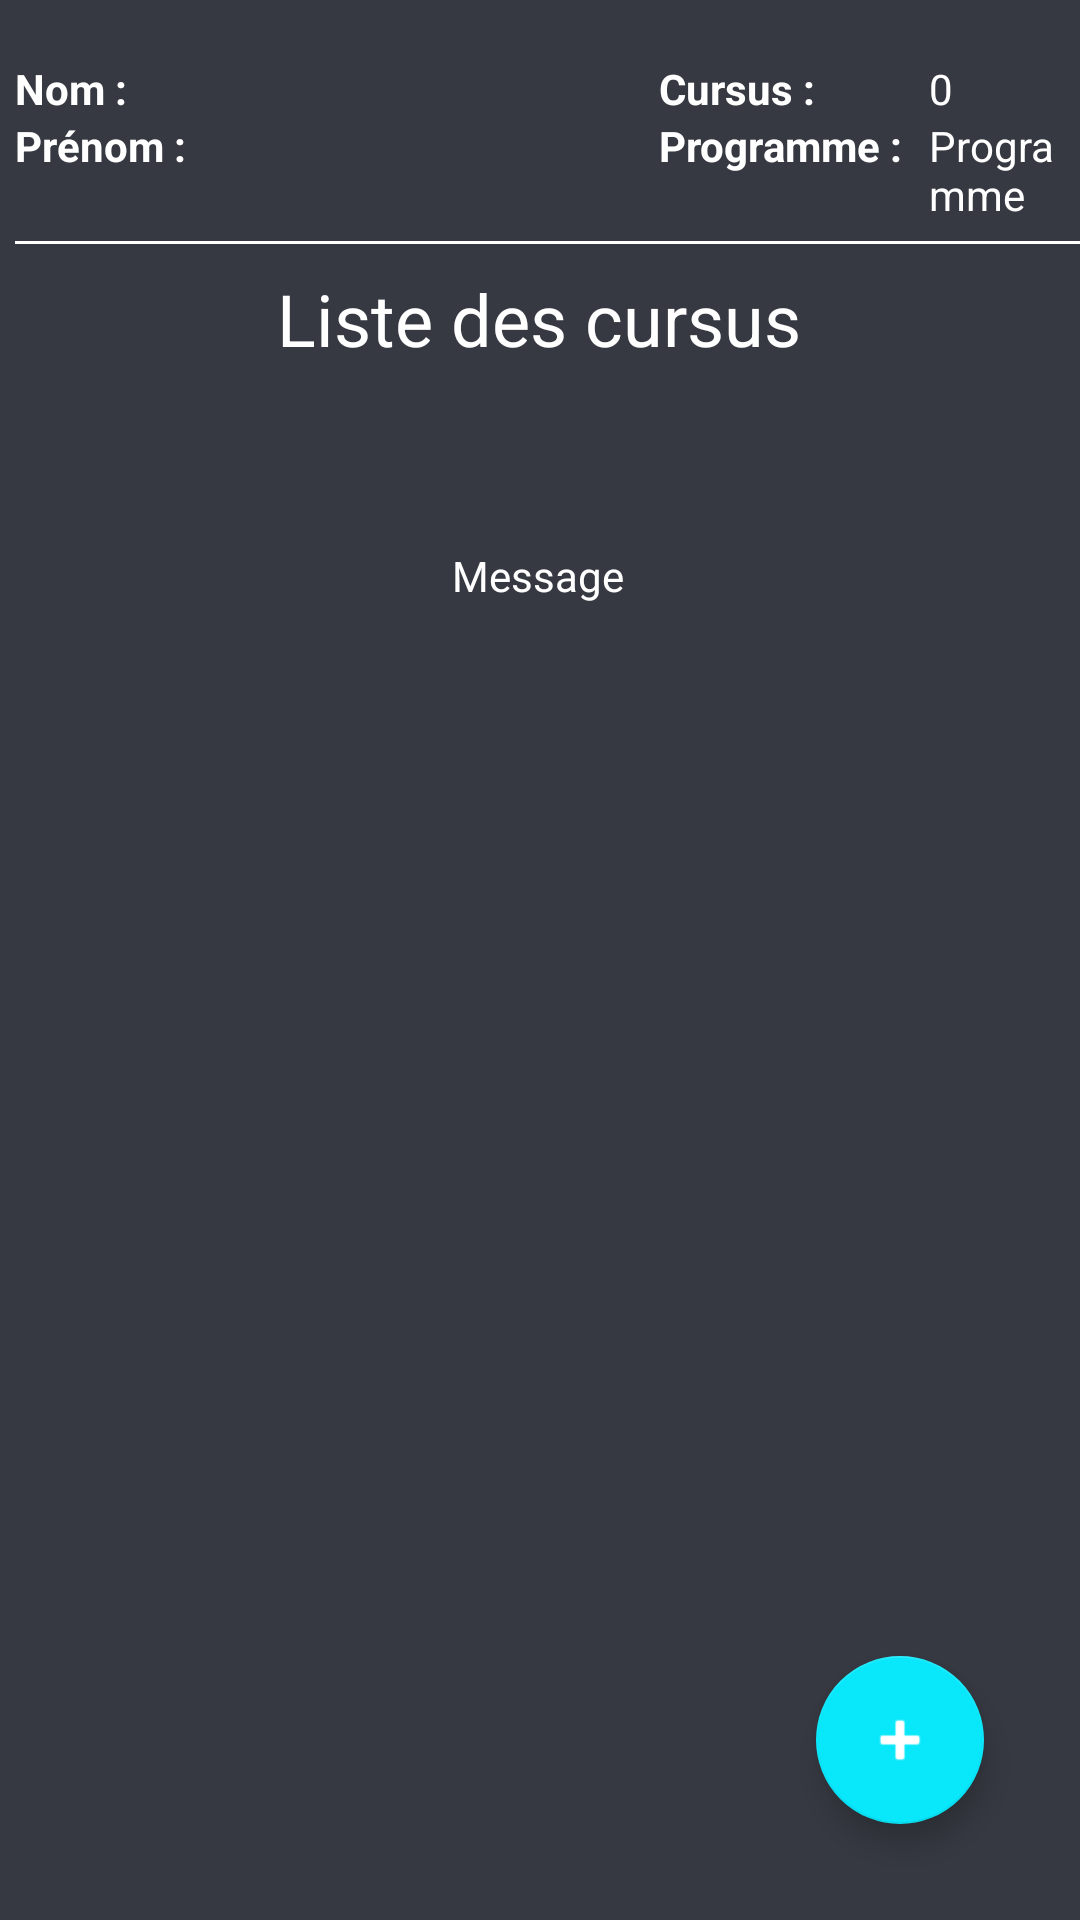

Point at icon controls on the screen. Image size 1080px x 1920px, points as (x=x, y=y).
Add a student: (x=900, y=1740)
